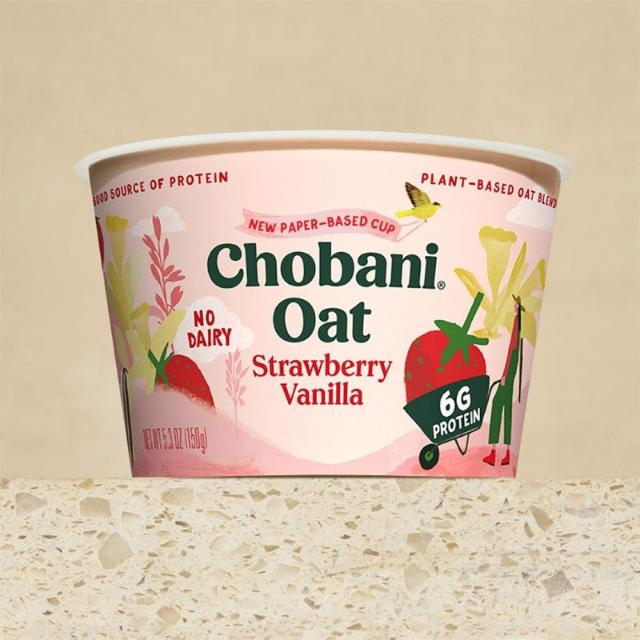yogurt: (75, 130, 570, 478)
